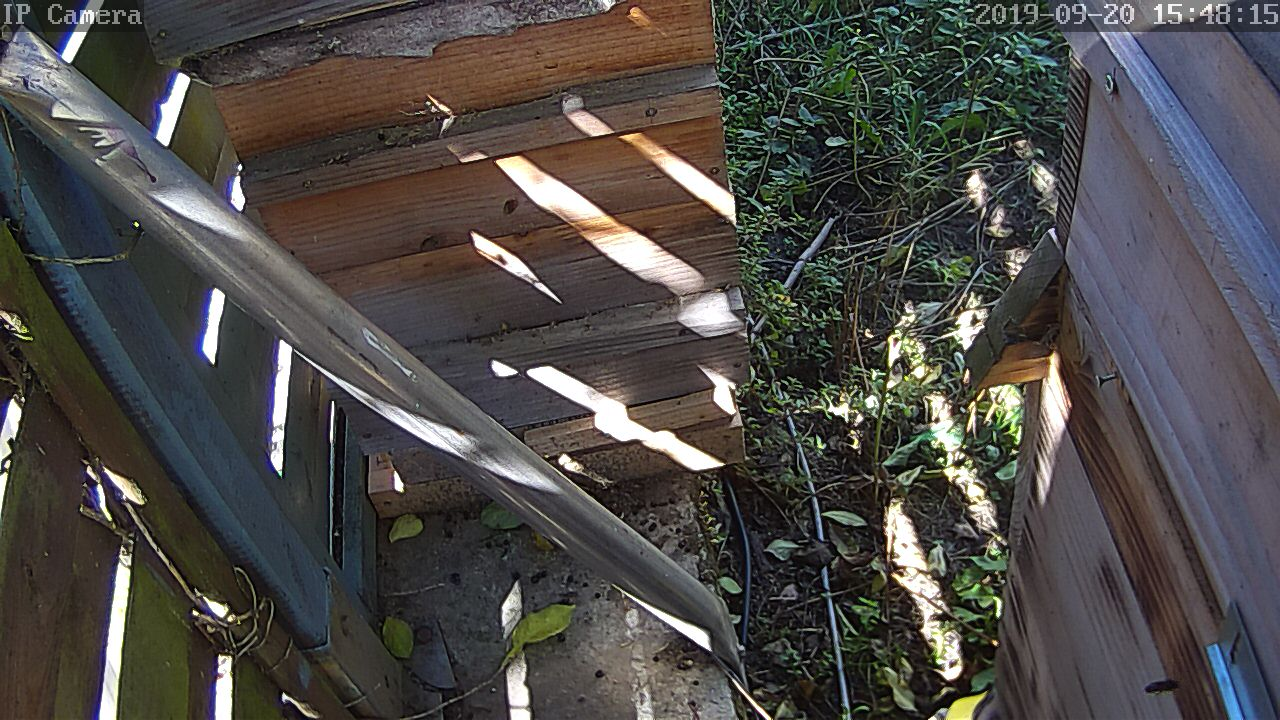bee: (1143, 671, 1183, 696)
